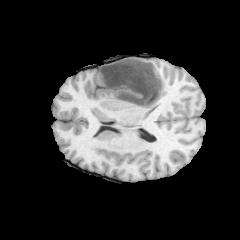glioma: (94, 57, 167, 114)
